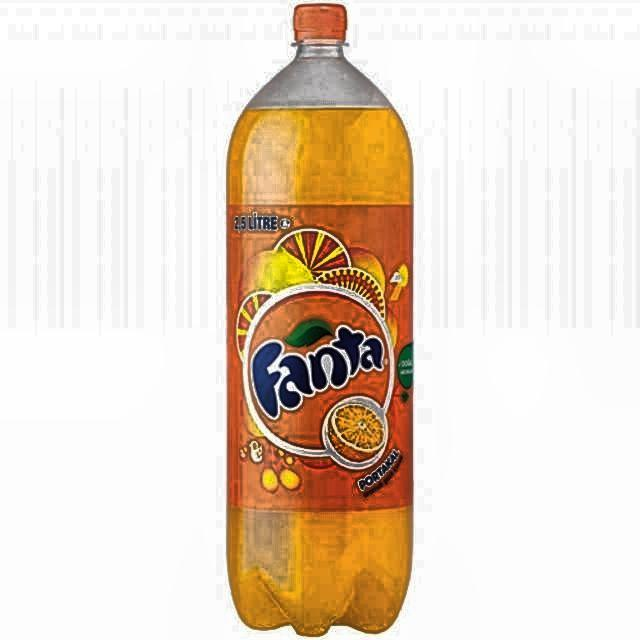plastic: (226, 2, 414, 640)
